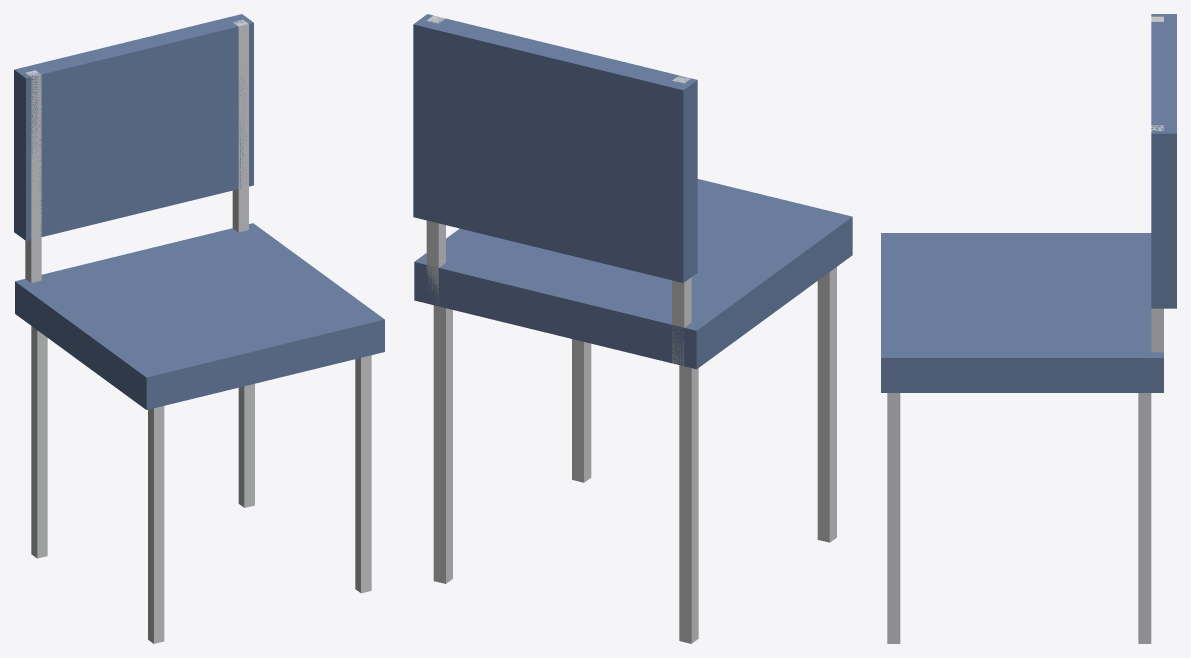
Rendered from Chair_Visitor.fbx.
The picture shows the model from 3 angles, left to right: view 1: azimuth 30°, elevation 25°; view 2: azimuth 150°, elevation 25°; view 3: azimuth 270°, elevation 25°; orthographic projection. The views are drawn at different scales.
Visible parts, largest first — view 1: Chair_Visitor; view 2: Chair_Visitor; view 3: Chair_Visitor.
Boxes of the visible parts, bbox=[...] form: Chair_Visitor: bbox=[14, 14, 384, 643]; Chair_Visitor: bbox=[413, 14, 852, 643]; Chair_Visitor: bbox=[881, 14, 1176, 643].
Size of the model in its own units: 0.46 by 0.88 by 0.46.
